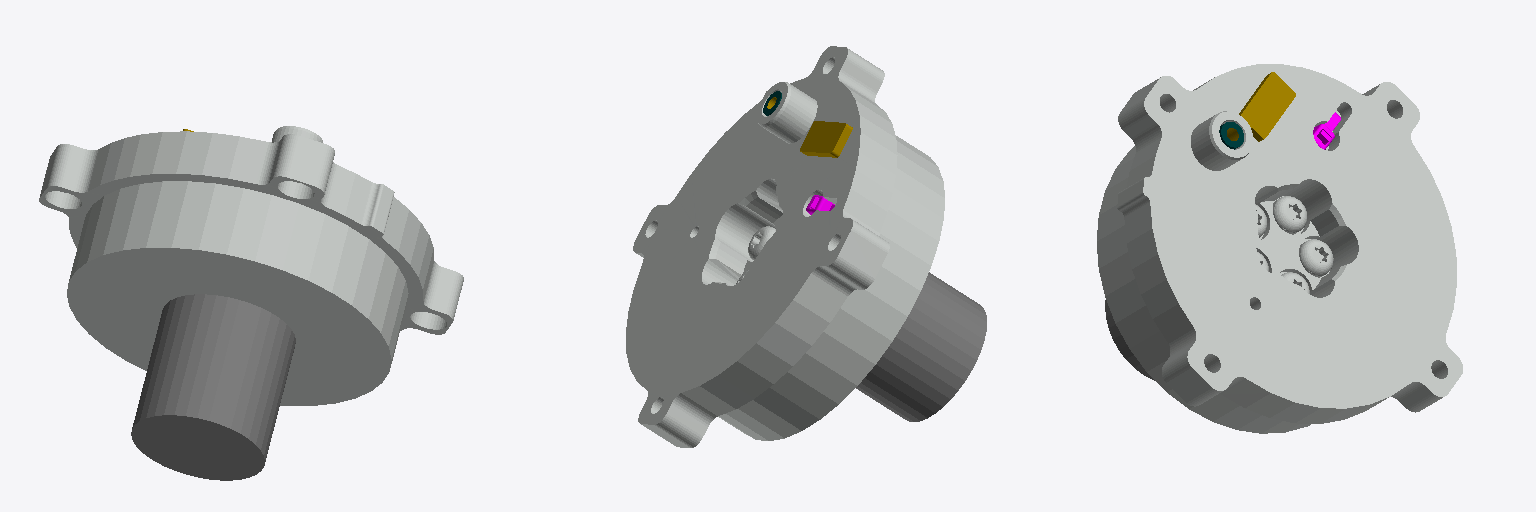
The model's file is IRB14000_rev00_Link7_R.obj.
3 views of the same model, side by side, from view 1: azimuth 30°, elevation 25°; view 2: azimuth 150°, elevation 25°; view 3: azimuth 270°, elevation 25° (orthographic).
Visible parts, largest first — view 1: Link7_R3.0-2, Link7_R3.0-1; view 2: Link7_R3.0-2, Link7_R3.0-1, Link7_R3.0; view 3: Link7_R3.0-2, Link7_R3.0, Link7_R3.0-1, Link7_R3.0-3.
Part boxes in pixels (bbox=[...]): Link7_R3.0-2: bbox=[39, 126, 463, 405]; Link7_R3.0-1: bbox=[131, 294, 295, 480]; Link7_R3.0-2: bbox=[626, 46, 944, 447]; Link7_R3.0-1: bbox=[856, 272, 986, 421]; Link7_R3.0: bbox=[767, 97, 852, 157]; Link7_R3.0-2: bbox=[1097, 64, 1462, 433]; Link7_R3.0: bbox=[1227, 72, 1295, 141]; Link7_R3.0-1: bbox=[1105, 300, 1154, 380]; Link7_R3.0-3: bbox=[1313, 112, 1340, 149].
Size of the model in its own units: 0.056 by 0.0544 by 0.0533.